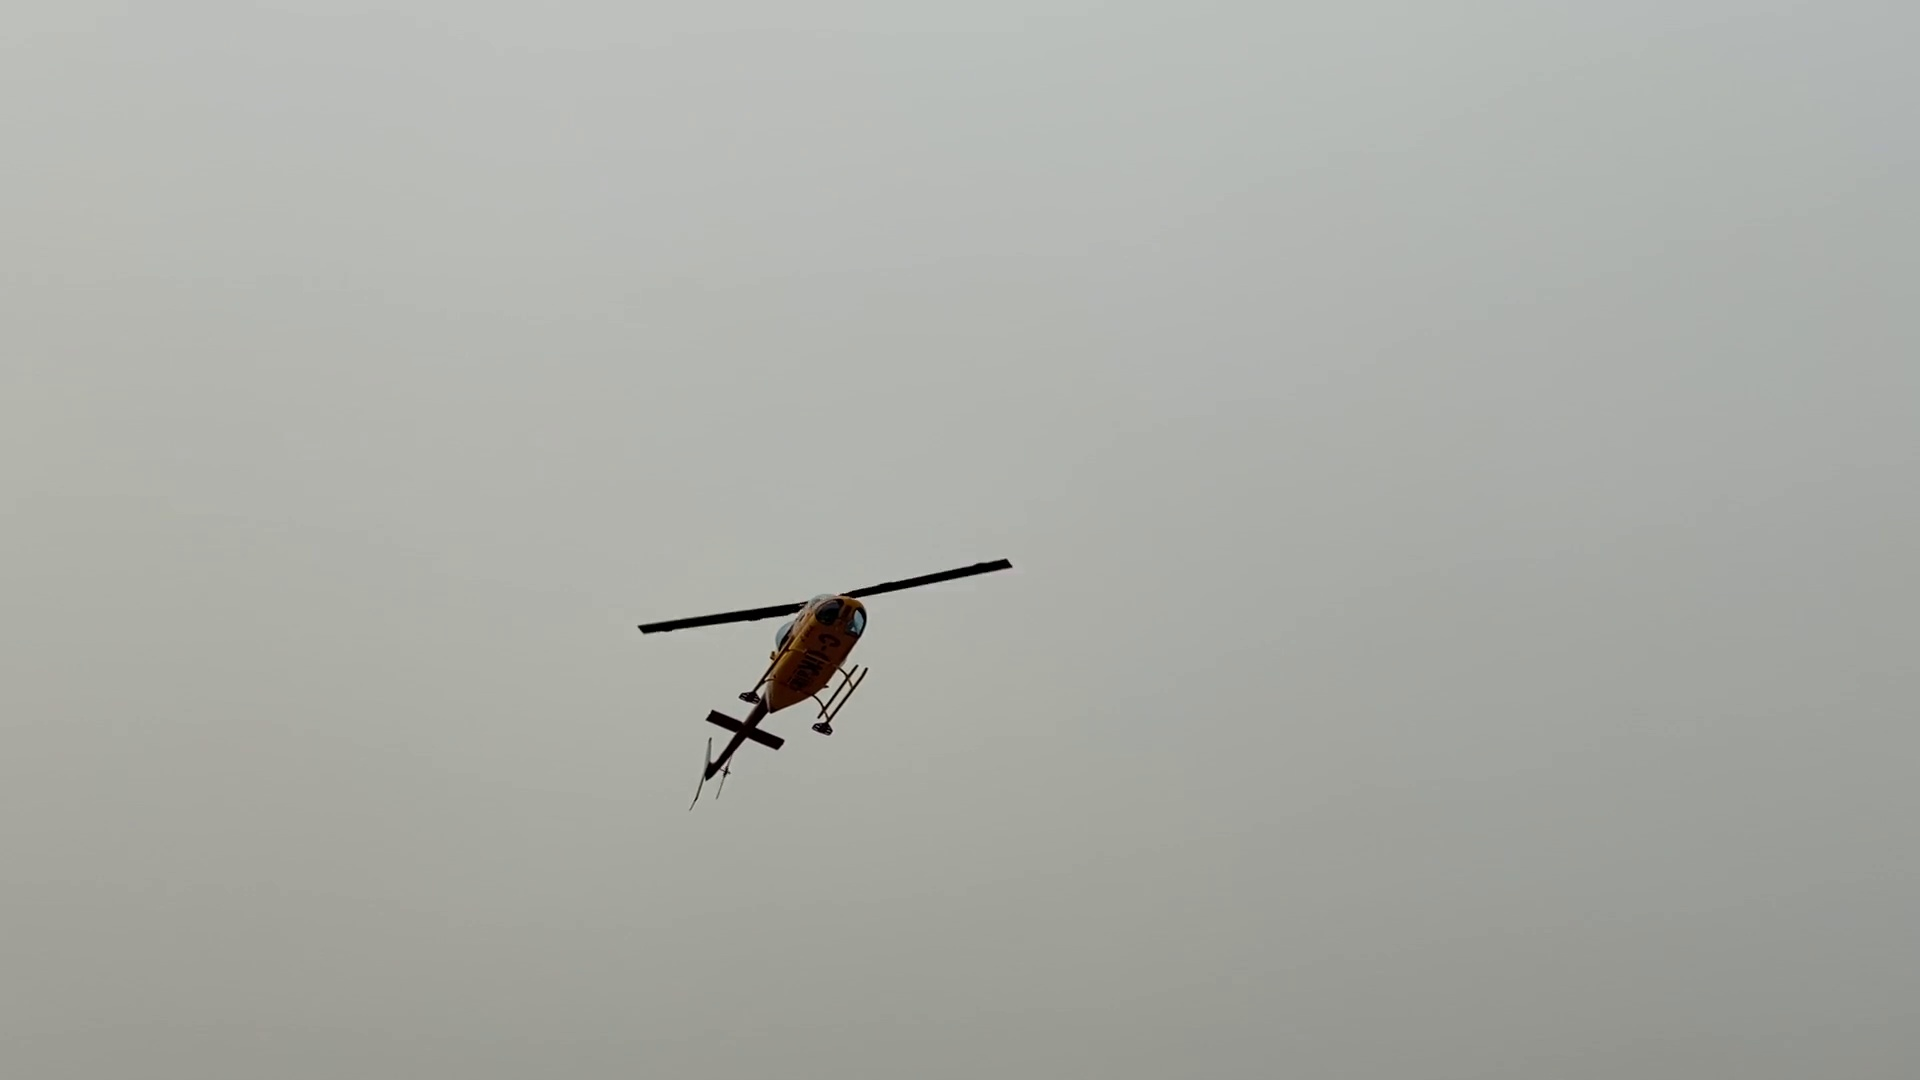heli: (633, 556, 1011, 783)
